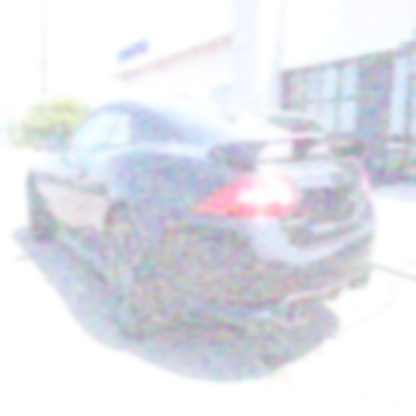Vehicle: (26, 99, 378, 344)
